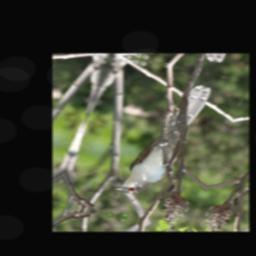Cuckoo: (108, 75, 214, 204)
